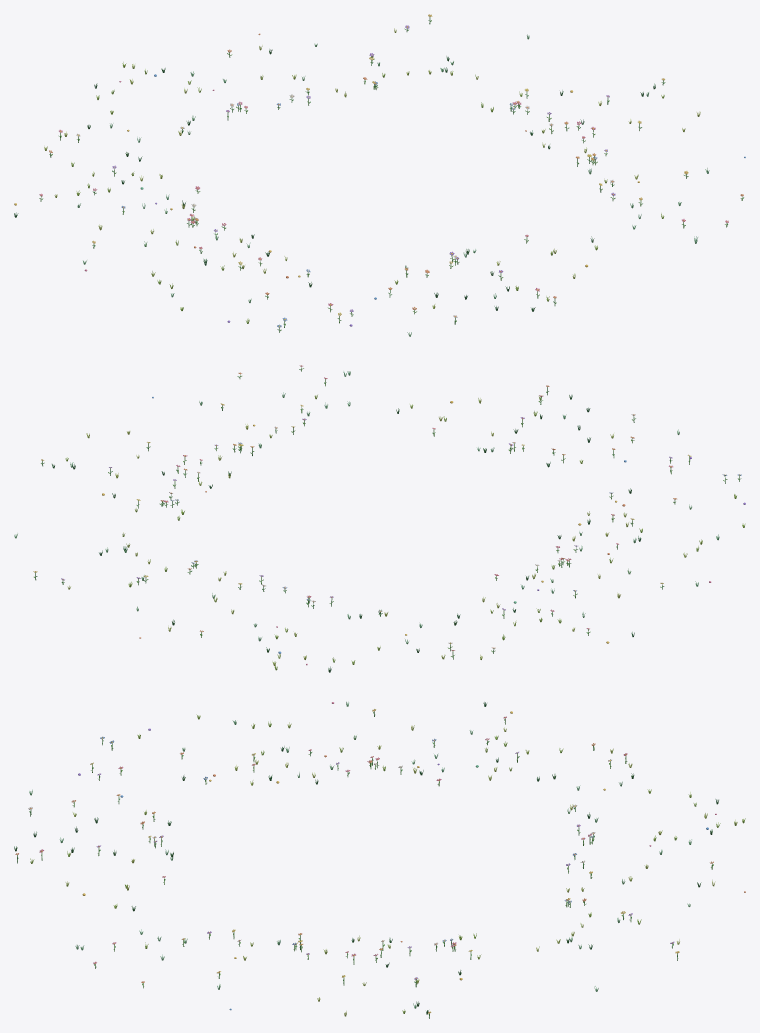
Rendered from OUT_Flora.fbx.
3 views of the same model, one above another, from view 1: azimuth 30°, elevation 25°; view 2: azimuth 150°, elevation 25°; view 3: azimuth 270°, elevation 25° (orthographic). The views are drawn at different scales.
Parts seen in each view (by area): view 1: OUT_Flora; view 2: OUT_Flora; view 3: OUT_Flora.
Part boxes in pixels (x1,y1,x2,y2): OUT_Flora: (14,14,745,336); OUT_Flora: (14,365,745,672); OUT_Flora: (14,701,745,1018).
Bounding box in the file's own units: 18.2 × 0.3497 × 17.82.
